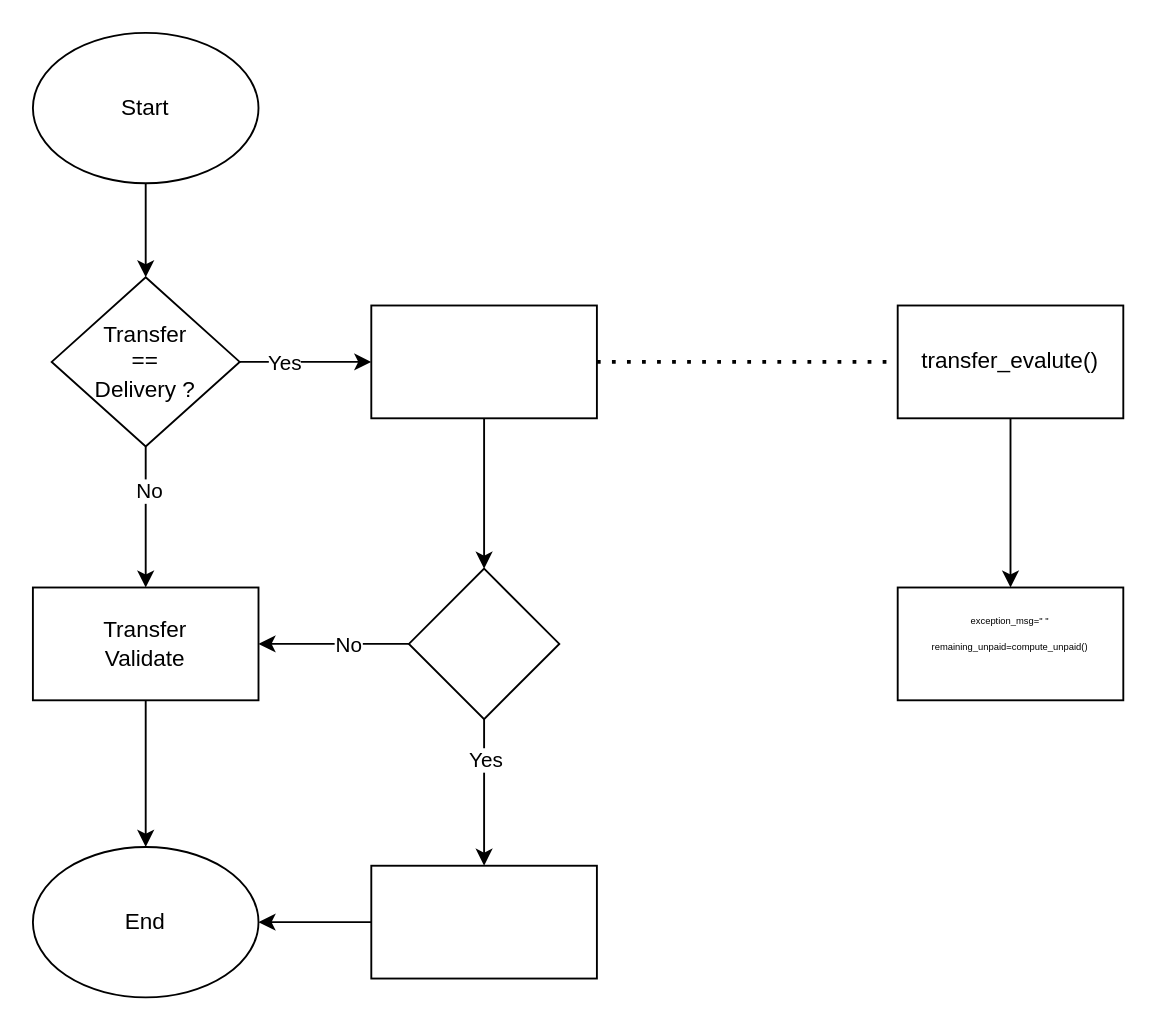
Image size: 1156x1030. Some labels were removed from this diagram. Here are the shapes that lost their labels. From the top down, the centre of each, then its label:
At point 483,361: "exception Msg = transfer_evalute()".
At point 483,643: "exception Msg ?".
At point 483,921: "Show Exception Msg".
